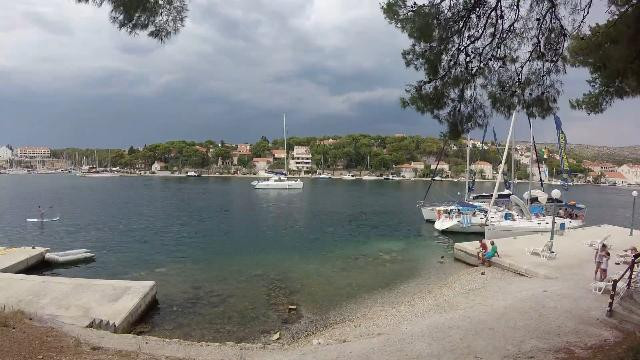Freighter: (75, 160, 125, 178)
Sailboat: (248, 168, 308, 192)
